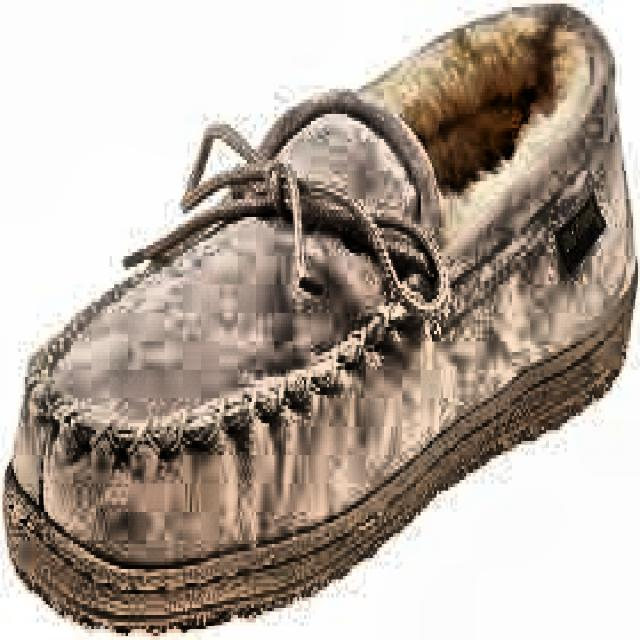shoes: (4, 45, 634, 626)
